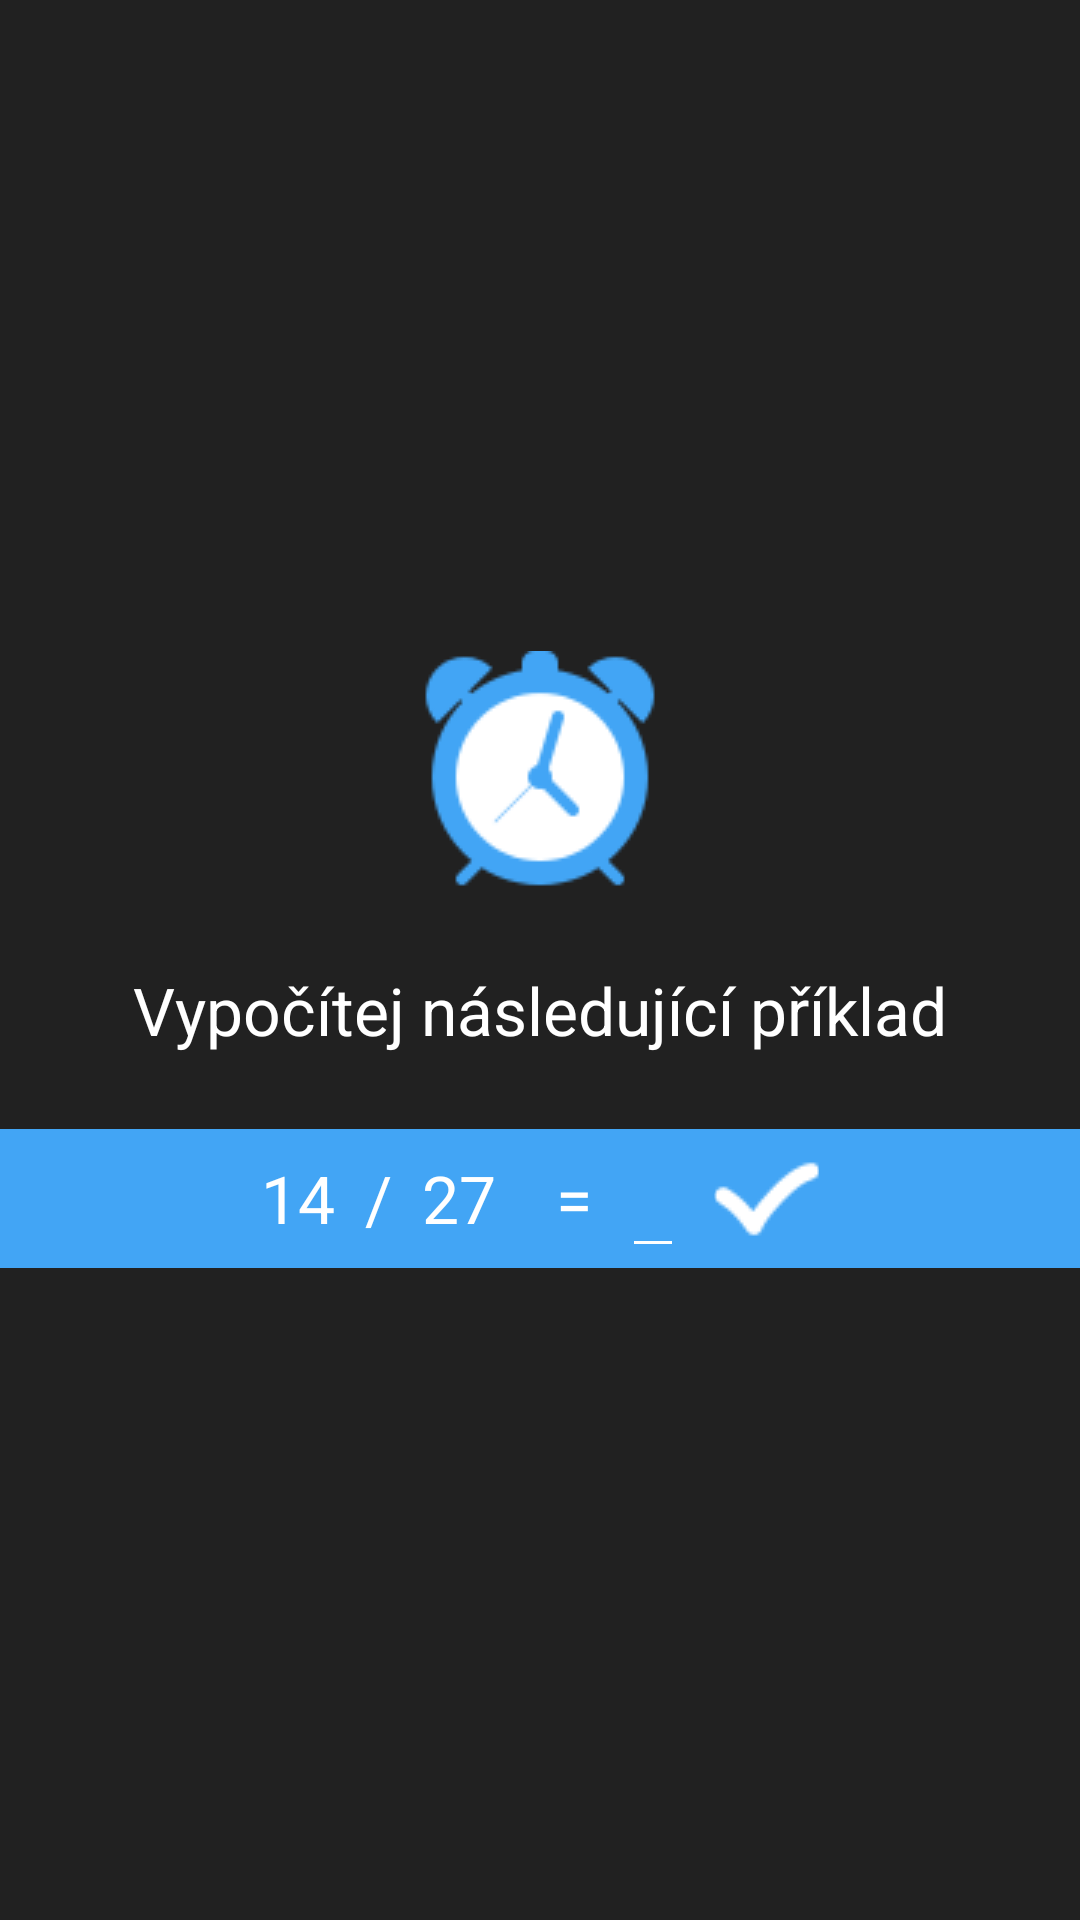

Screen size 1080px x 1920px. Icon name, then its center in pixels as [x,y]:
alarmbuz: [540,768]
check: [766,1199]
